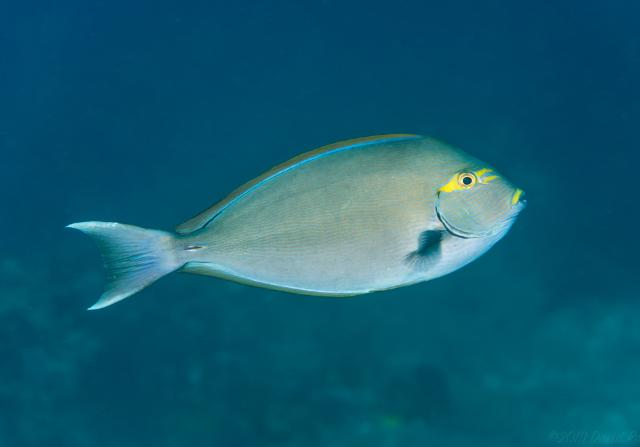Mulut: (506, 170, 542, 232)
Sirip Anal: (174, 256, 378, 306)
Sirip Dada: (390, 217, 458, 292)
Sirip Ekor: (53, 204, 193, 325)
Sirip Punggung: (170, 127, 424, 245)
